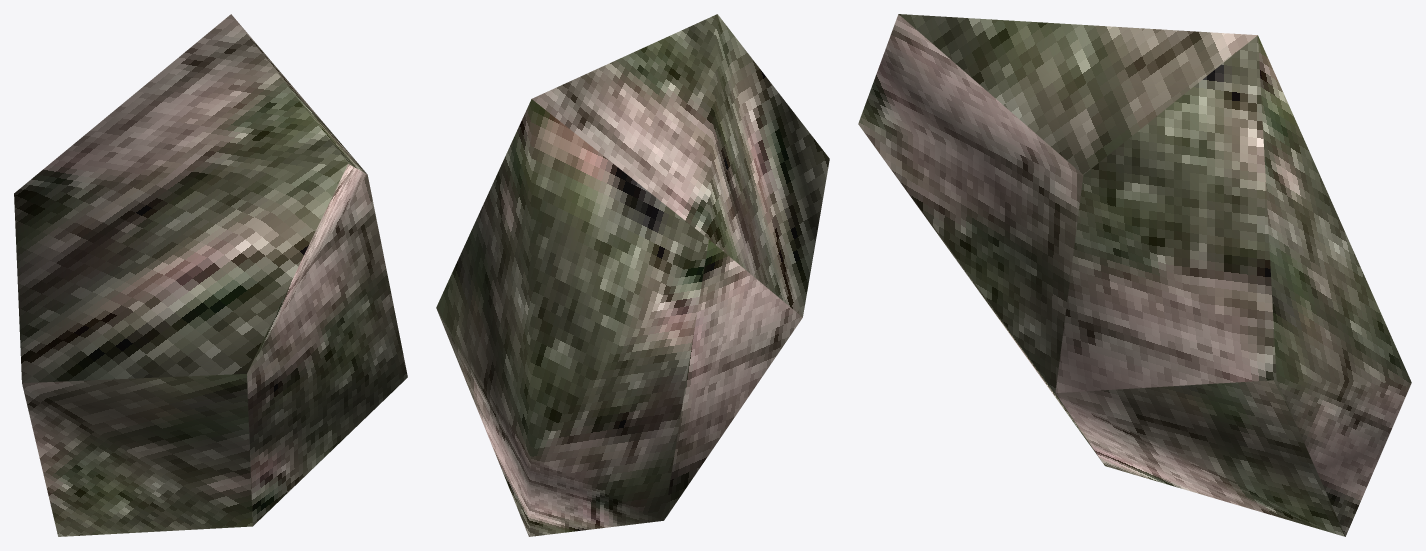
Rendered from BigStone01.glb.
3 views of the same model, side by side, from view 1: azimuth 30°, elevation 25°; view 2: azimuth 150°, elevation 25°; view 3: azimuth 270°, elevation 25° (orthographic). The views are drawn at different scales.
Parts seen in each view (by area): view 1: model_BigStone01; view 2: model_BigStone01; view 3: model_BigStone01.
Boxes of the visible parts, x1,y1,x2,y2 form: model_BigStone01: [14, 14, 407, 536]; model_BigStone01: [436, 14, 829, 536]; model_BigStone01: [858, 14, 1411, 536].
Bounding box in the file's own units: 0.6264 × 0.7895 × 0.7595.
Materials: 1 (1 with a texture image).
